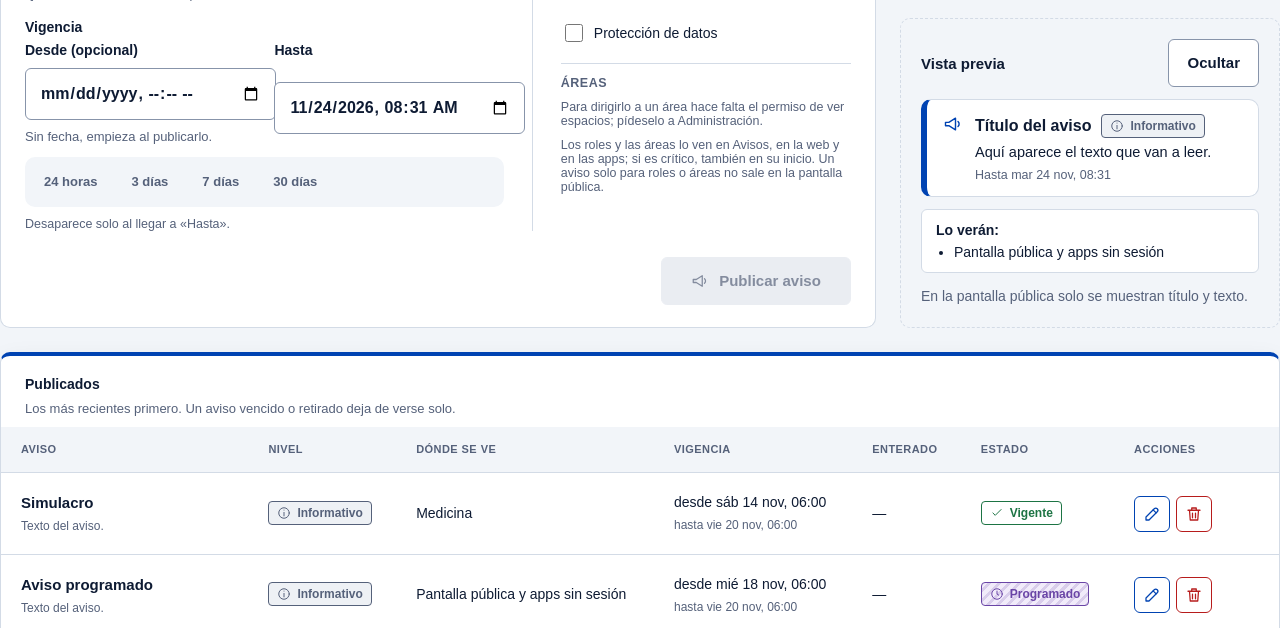
it: MA-AVI-02 · editar y retirar avisos en la web › editar carga el aviso en el formulario y guarda con su versión
The width and height of the screenshot is (1280, 628).
(page scrolled)
Click the button named "Editar" in the row of "Simulacro" at (1152, 514), box [1134,496,1170,532]
(page scrolled)
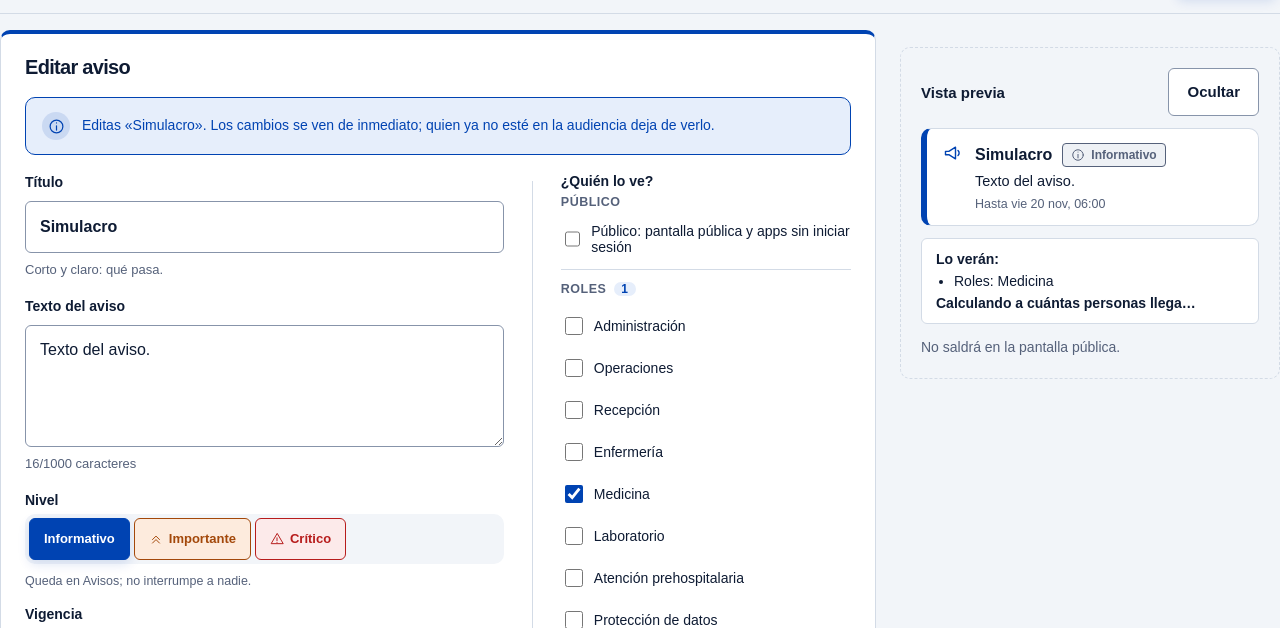
Now the field labelled "Título" holds "Simulacro"
Now the checkbox labelled "Medicina" is checked, box [565,485,583,503]
Replace the text in the field labelled "Título" with "Simulacro movido" at (264, 227), box [25,201,504,253]
(page scrolled)
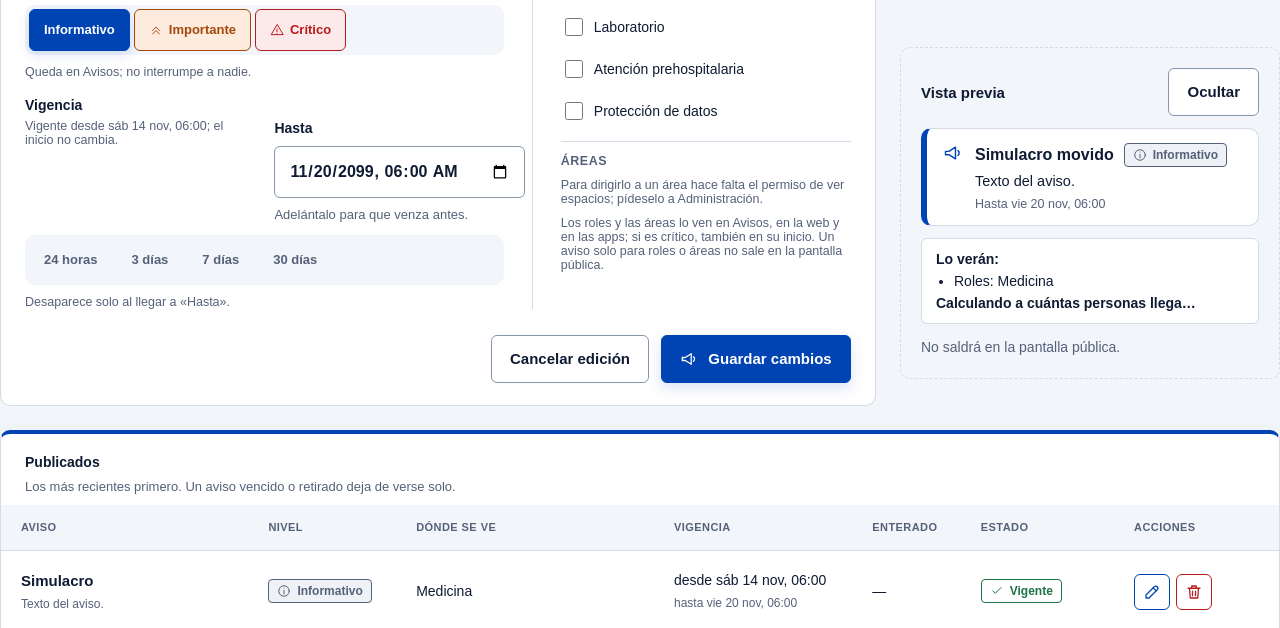
Click the button "Guardar cambios" at (756, 359), box [661,335,851,383]
(page scrolled)
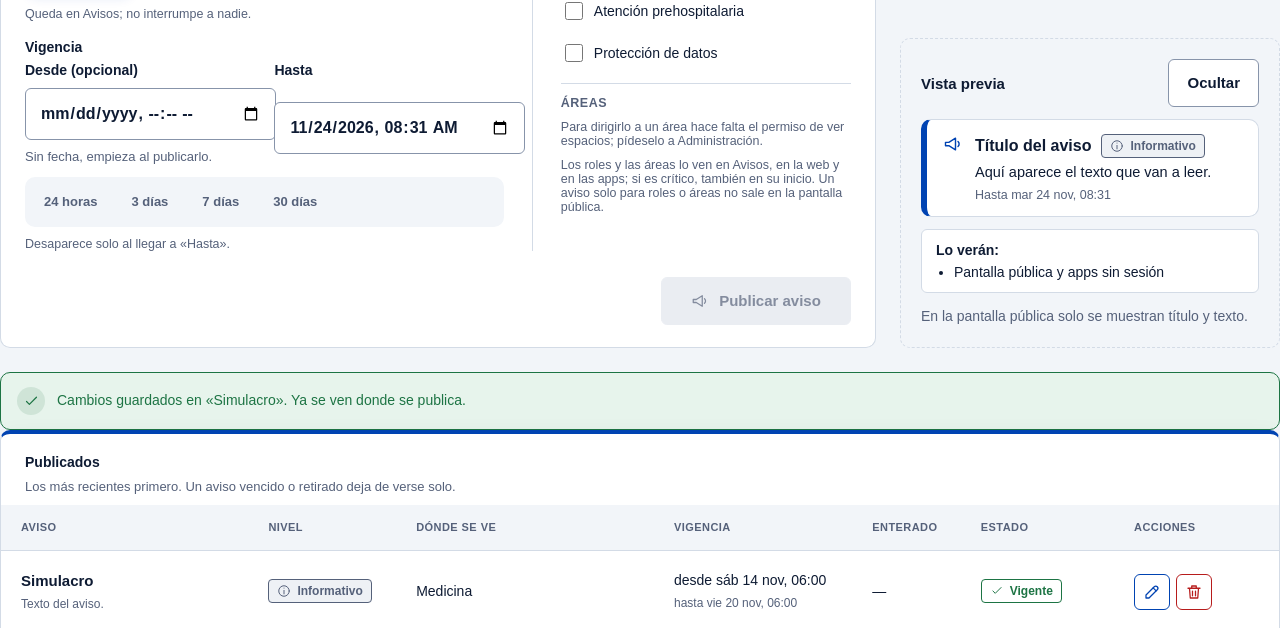
Now the text "Cambios guardados" is shown, box [57,392,466,408]
